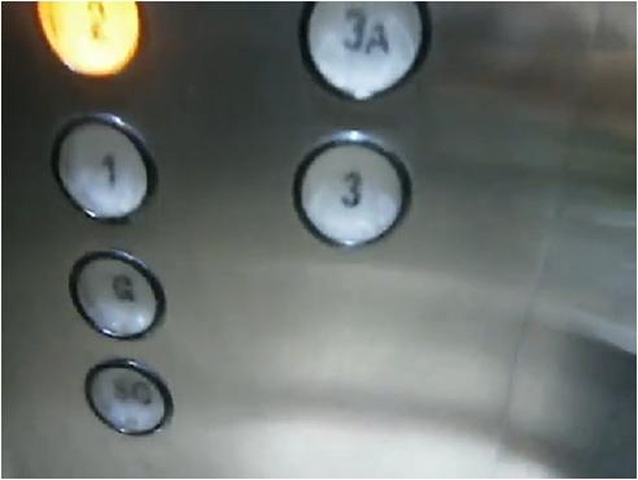1: (50, 112, 160, 229)
3: (289, 130, 413, 250)
3A: (297, 1, 430, 103)
G: (66, 247, 166, 342)
blur: (84, 356, 175, 440)
